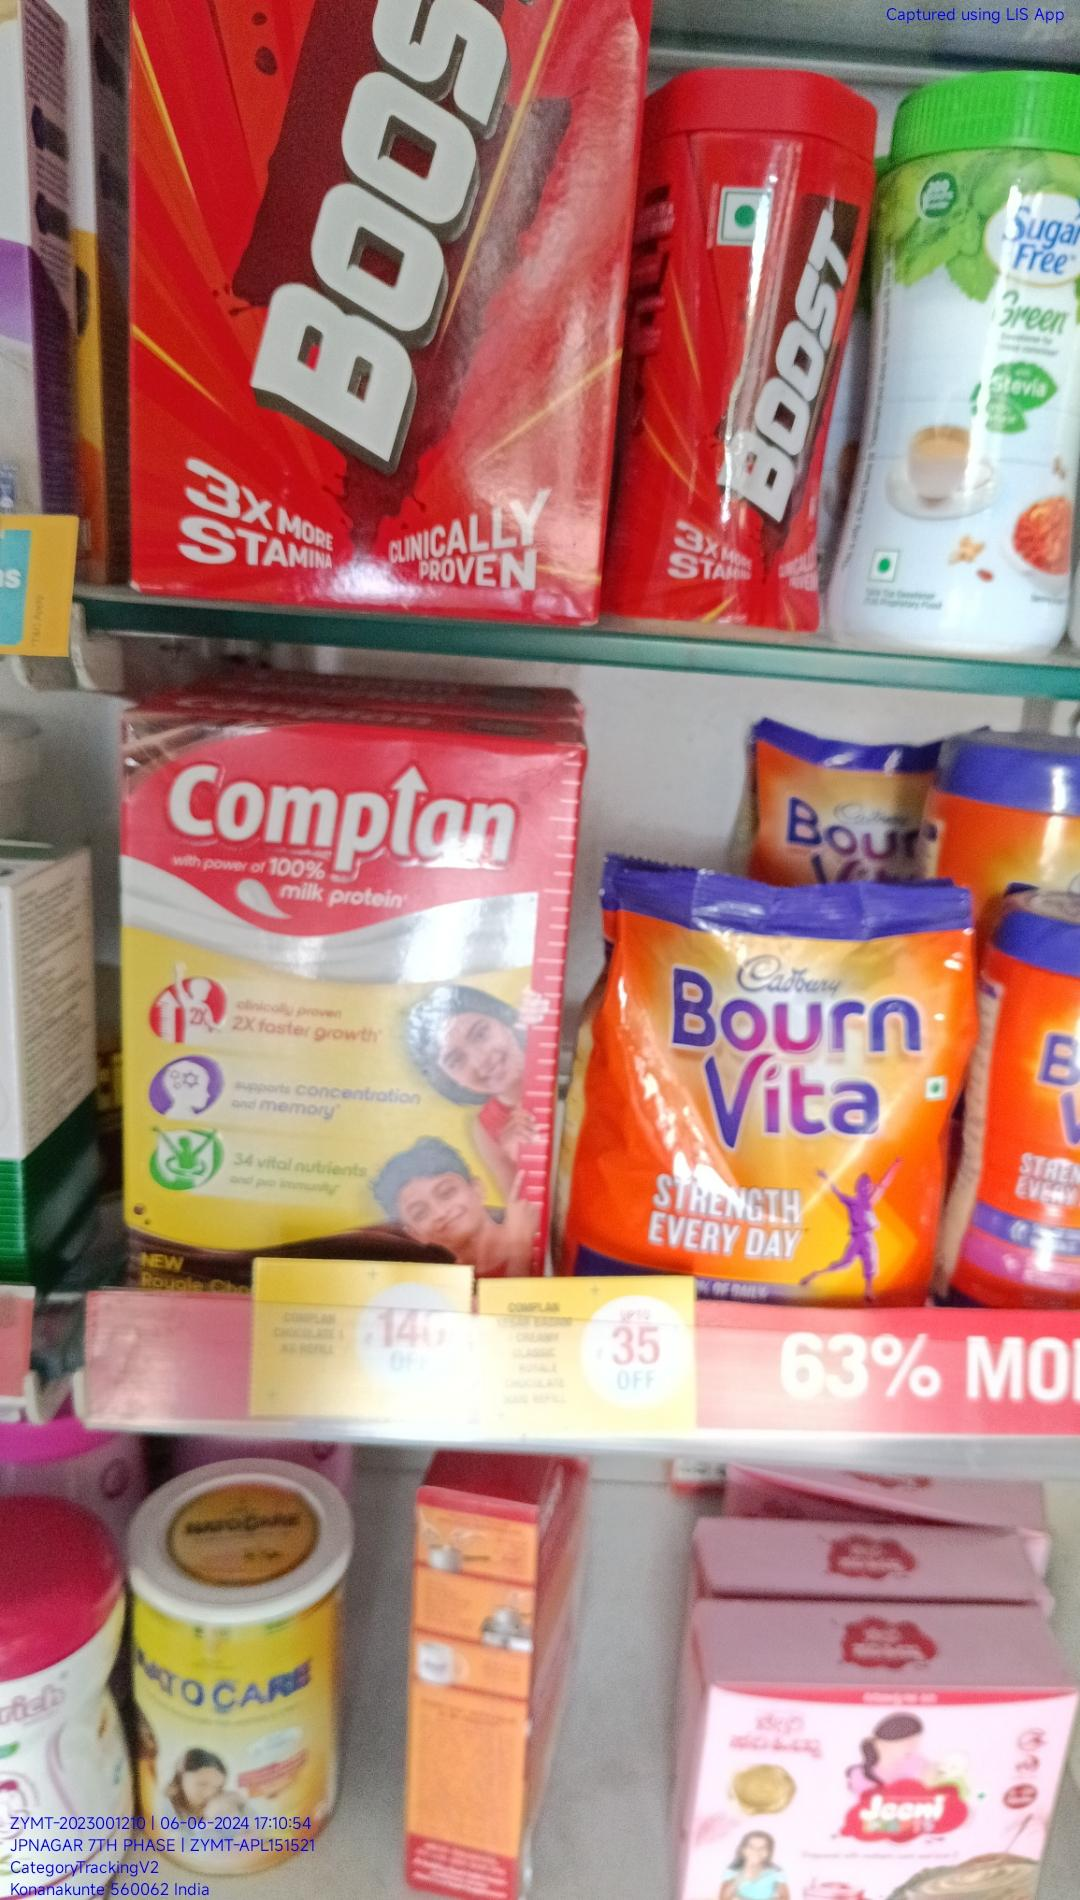BOURN_VITA_500_G_POUCH: (599, 878, 952, 1293)
COMPLAN_CHOCOLATE_500_GMS_PACK: (125, 718, 549, 1266)
